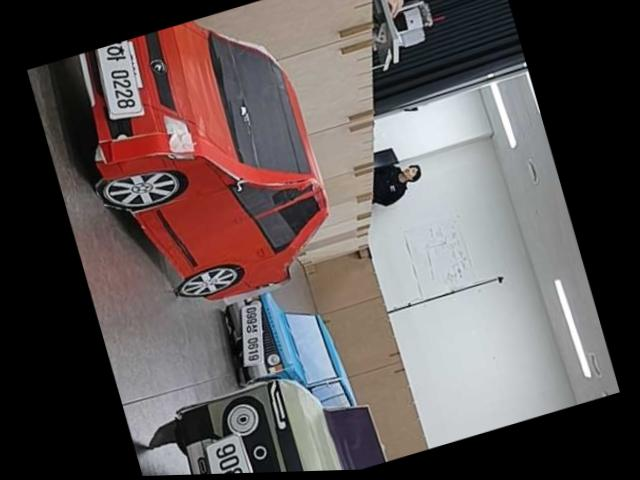car: (58, 0, 353, 332), (140, 351, 389, 476), (215, 269, 349, 389)
id: (88, 38, 152, 125), (225, 295, 279, 368), (194, 428, 263, 474)
